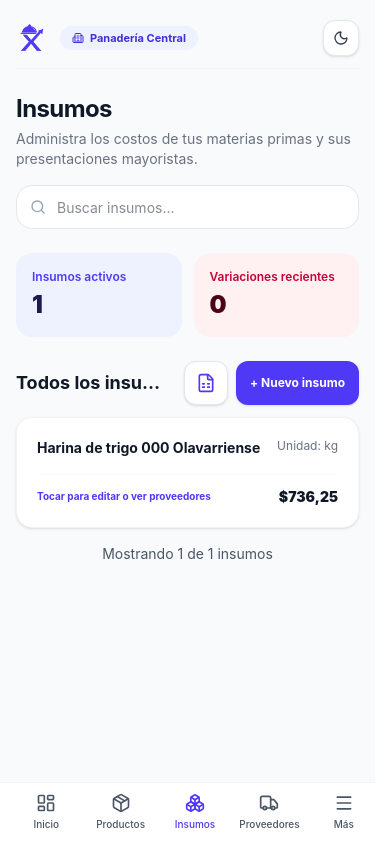
Scenario: Insumos - Escenario "Confirmación desde el insumo" (#434) › tocar la estrella de la que no es predeterminada pide confirmación antes de cambiar el costo
Later steps or results of the test are not shown.
Click the text "Harina de trigo 000 Olavarriense" at (149, 448), box [37,438,260,458]
(page scrolled)
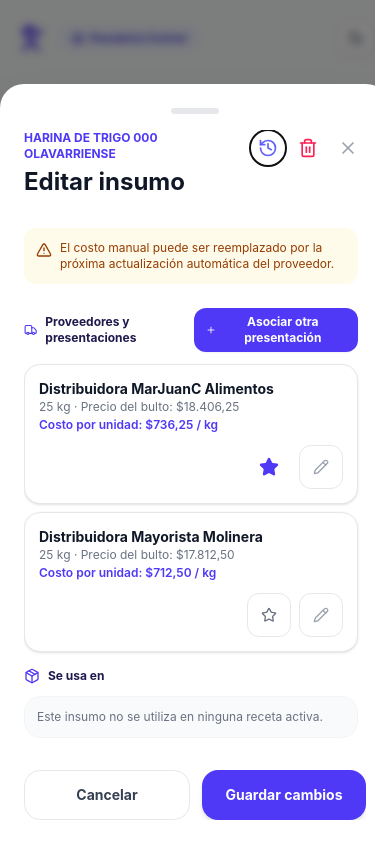
Click the button named "Usar como predeterminada la presentación de Distribuidora Mayorista Molinera" at (269, 615), box [247,593,291,637]
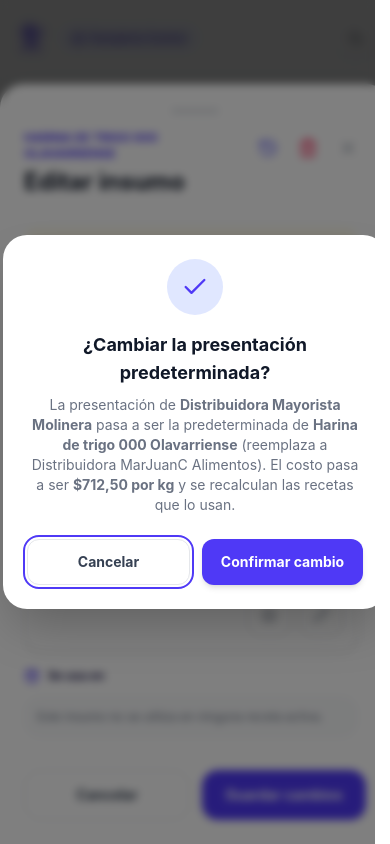
Now the dialog "¿Cambiar la presentación predeterminada?" shows "reemplaza a Distribuidora MarJuanC Alimentos", box [32,436,328,473]
Now the dialog "¿Cambiar la presentación predeterminada?" shows "$712,50 por kg", box [3,235,387,609]
